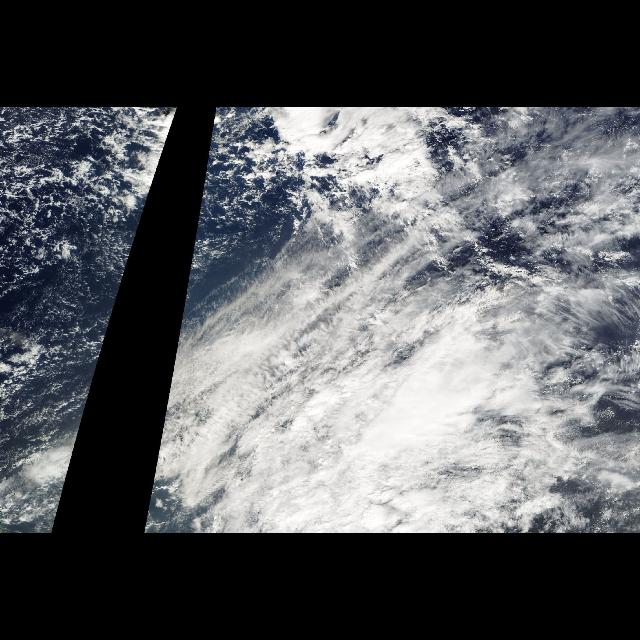Gravel: (4, 110, 178, 380), (184, 109, 282, 307)
Sugar: (1, 109, 97, 419)
